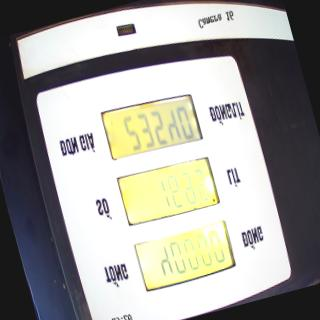screen: (96, 86, 240, 296)
